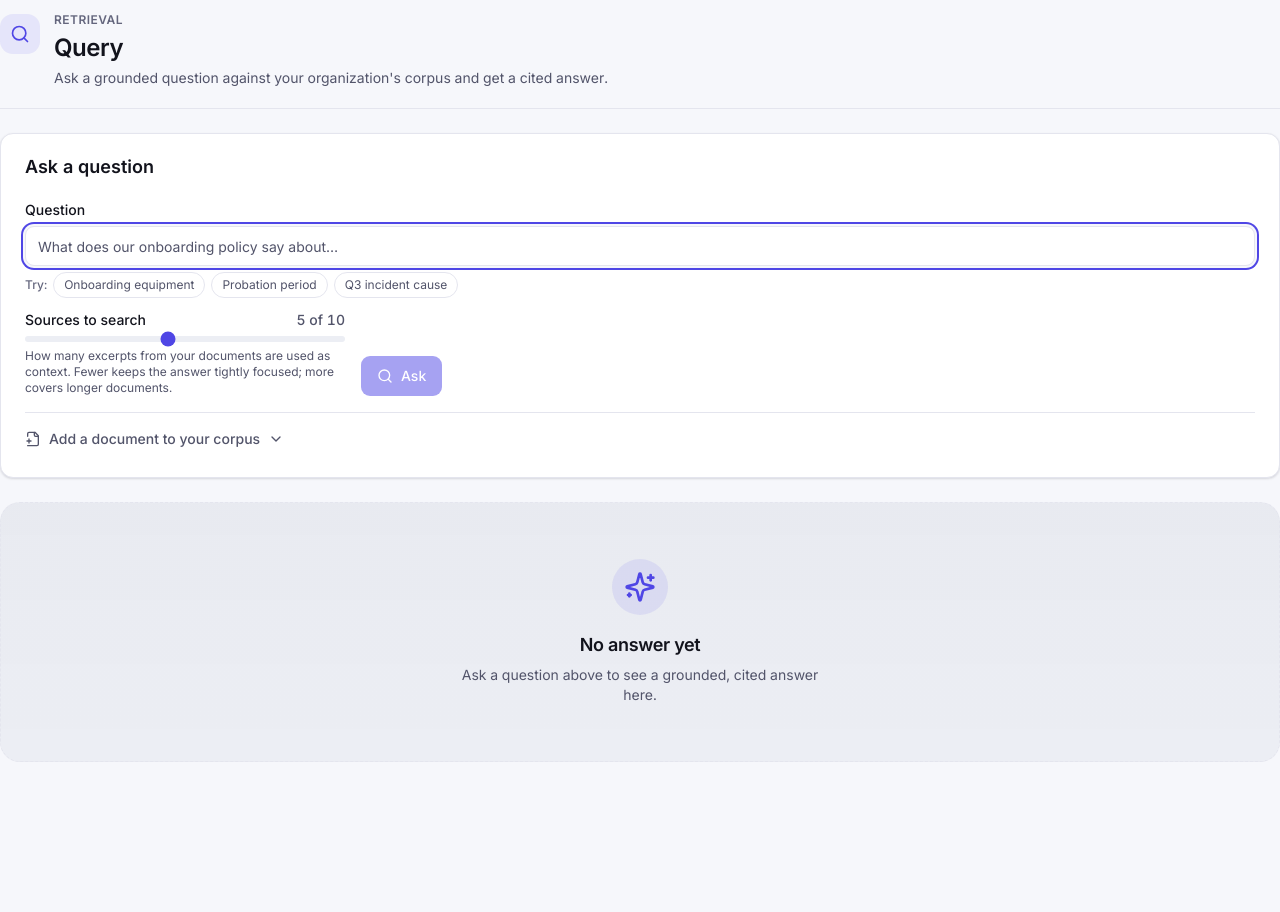
Test: RagQueryView (MSW) › citations render with document_id and chunk_id (7.2)
In the field with test id "query-input": (640, 246) [25,226,1255,266], type "hello"
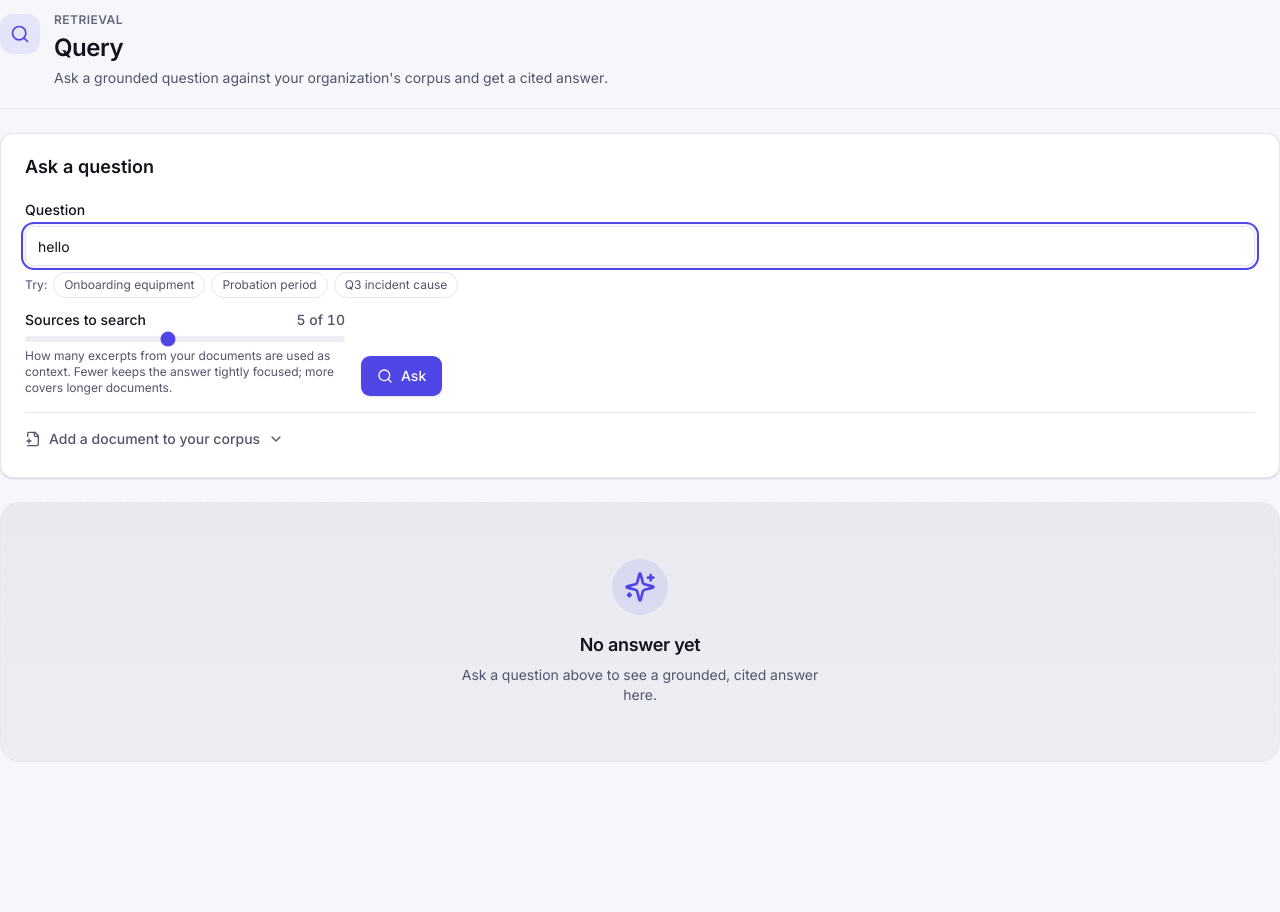
Click the button with test id "query-submit": (402, 376) [361,356,442,396]
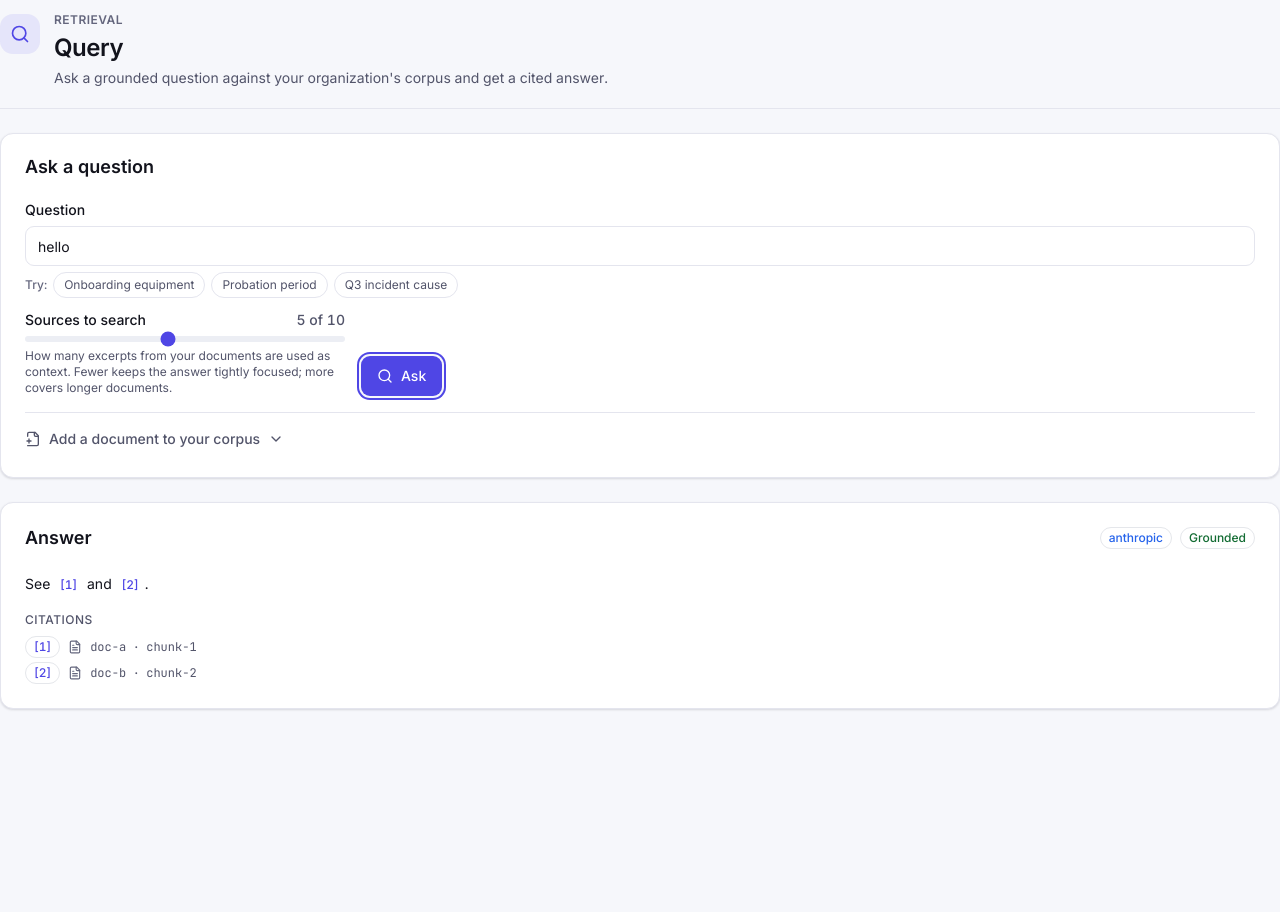
Expected: the element with test id "citation-list" is shown, [25,612,197,684]
Expected: the text with test id "citation-doc-1" reads "doc-a", [90,639,126,655]
Expected: the text with test id "citation-chunk-1" reads "chunk-1", [146,639,197,655]
